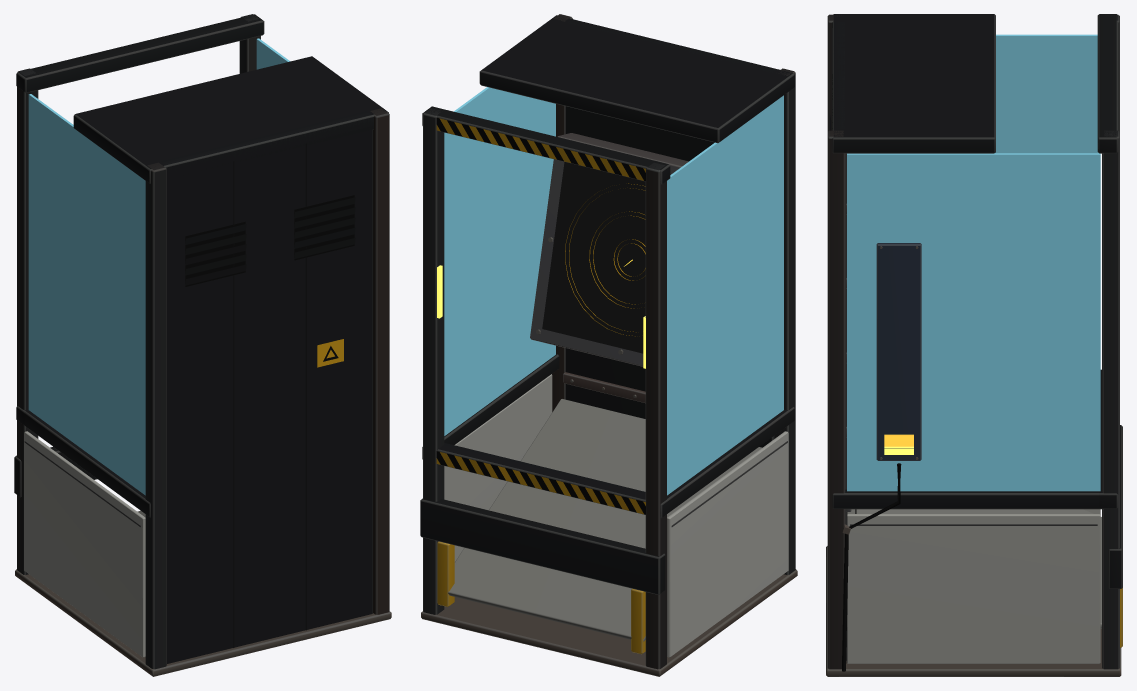
File: concept_impact_forge.glb
3 renders of one model, left to right at view 1: azimuth 30°, elevation 25°; view 2: azimuth 150°, elevation 25°; view 3: azimuth 270°, elevation 25°, orthographic. The views are drawn at different scales.
Parts seen in each view (by area): view 1: Frame, Glass; view 2: Frame, Glass, Anvil; view 3: Frame, Glass, Meter.
Part boxes in pixels (x1=…): Frame: x1=14, y1=14, x2=391, y2=676; Glass: x1=28, y1=38, x2=290, y2=495; Frame: x1=420, y1=14, x2=797, y2=676; Glass: x1=444, y1=87, x2=783, y2=495; Anvil: x1=530, y1=133, x2=688, y2=366; Frame: x1=826, y1=14, x2=1122, y2=676; Glass: x1=847, y1=34, x2=1100, y2=491; Meter: x1=884, y1=434, x2=913, y2=454.
Size of the model in its own units: 2.02 by 3.99 by 1.99.
